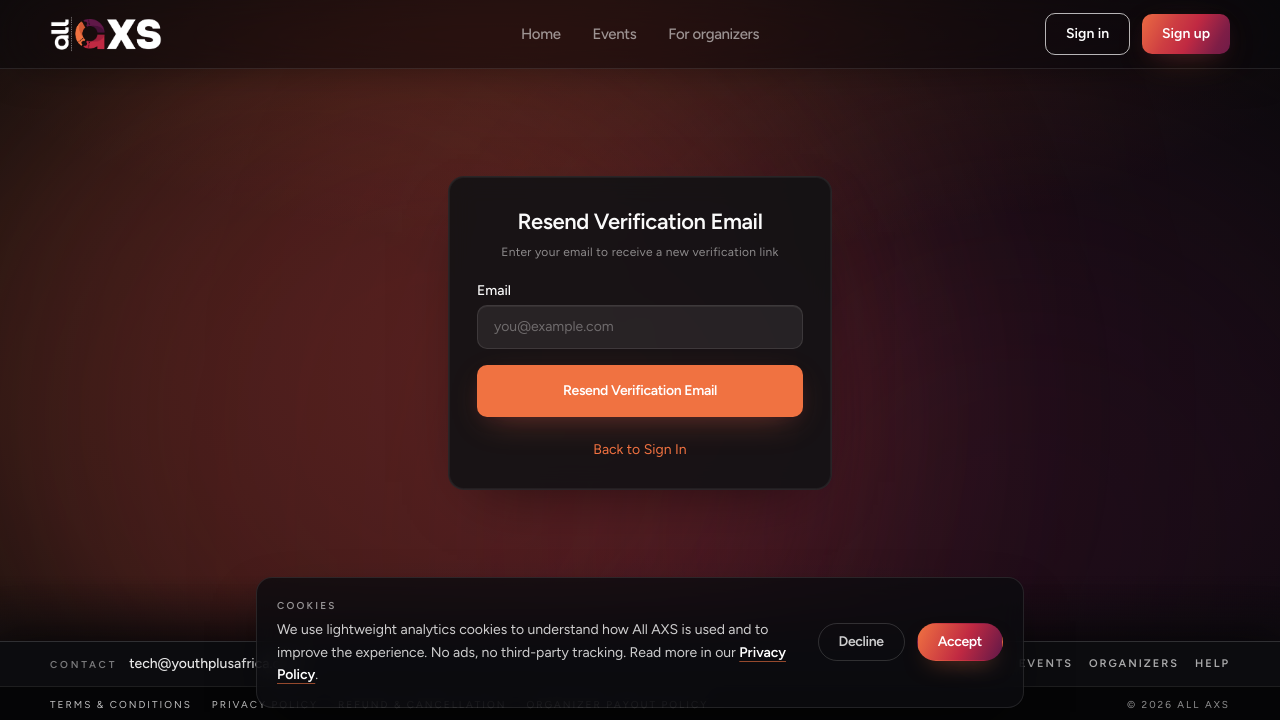
Auth email flows (stubbed API) › Login and resend-verification entry points › resend-verification shows success even when API errors (no enumeration)
Type "buyer@example.com" into the field labelled "Email" at coordinates (640, 327), box top-left (477, 305), bottom-right (803, 349)
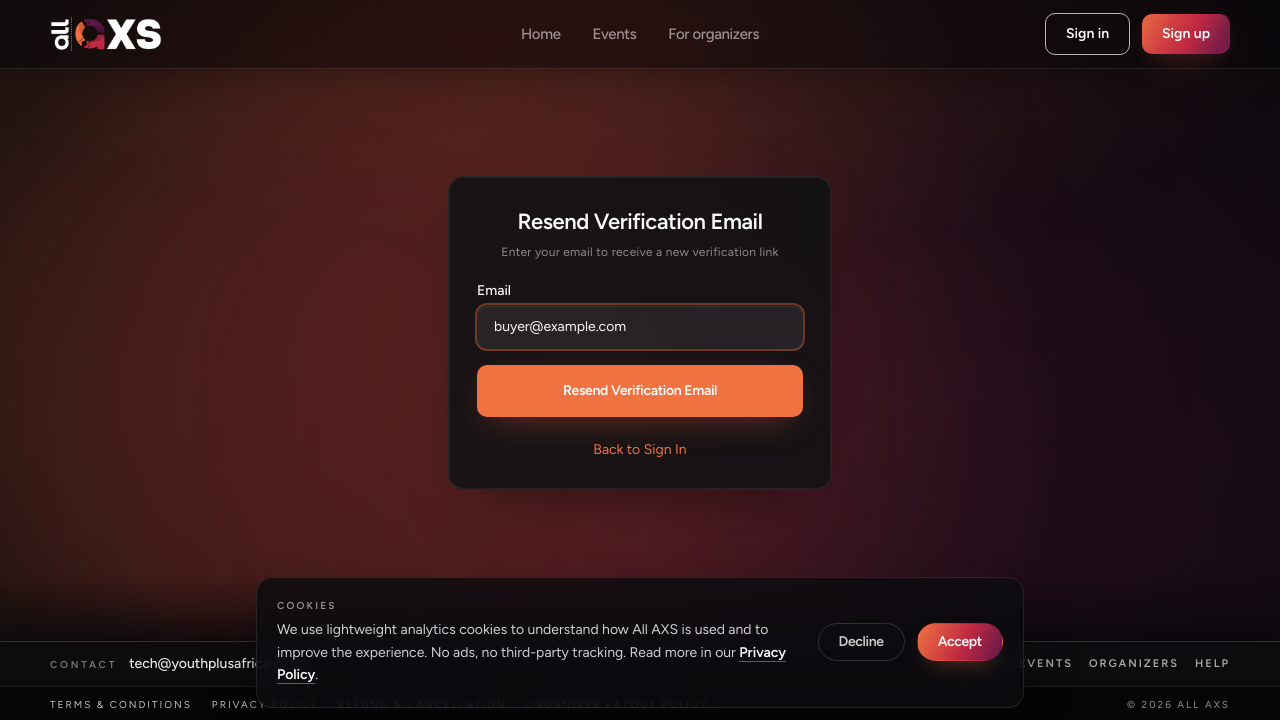
Click the button "Resend Verification Email" at coordinates (640, 391), box top-left (477, 365), bottom-right (803, 417)
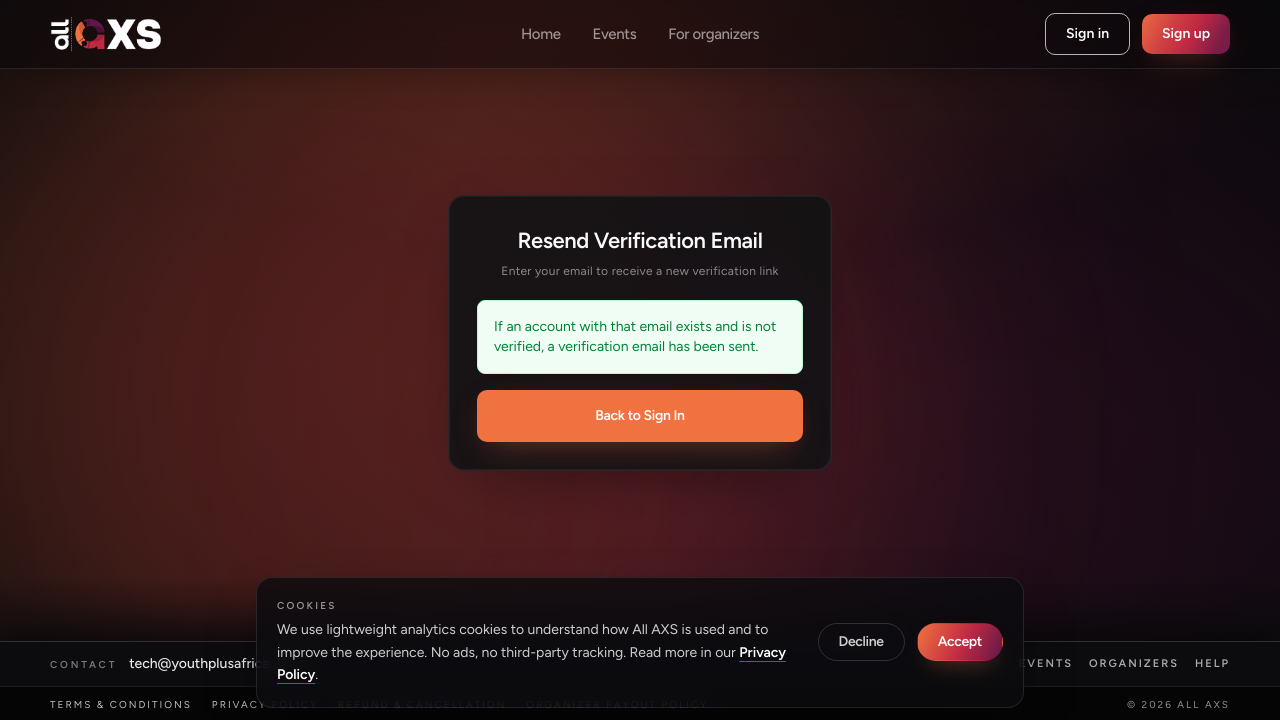
Expected: the text "If an account with that email exists and is not verified, a verification email has been sent." is shown, top-left (494, 318), bottom-right (776, 355)
